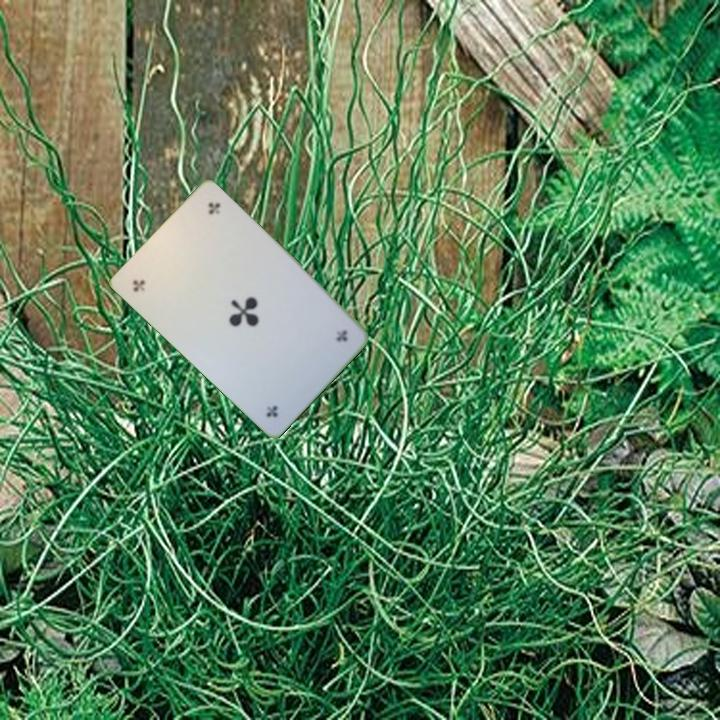c_a.png: (121, 235, 207, 321), (275, 296, 360, 382)
